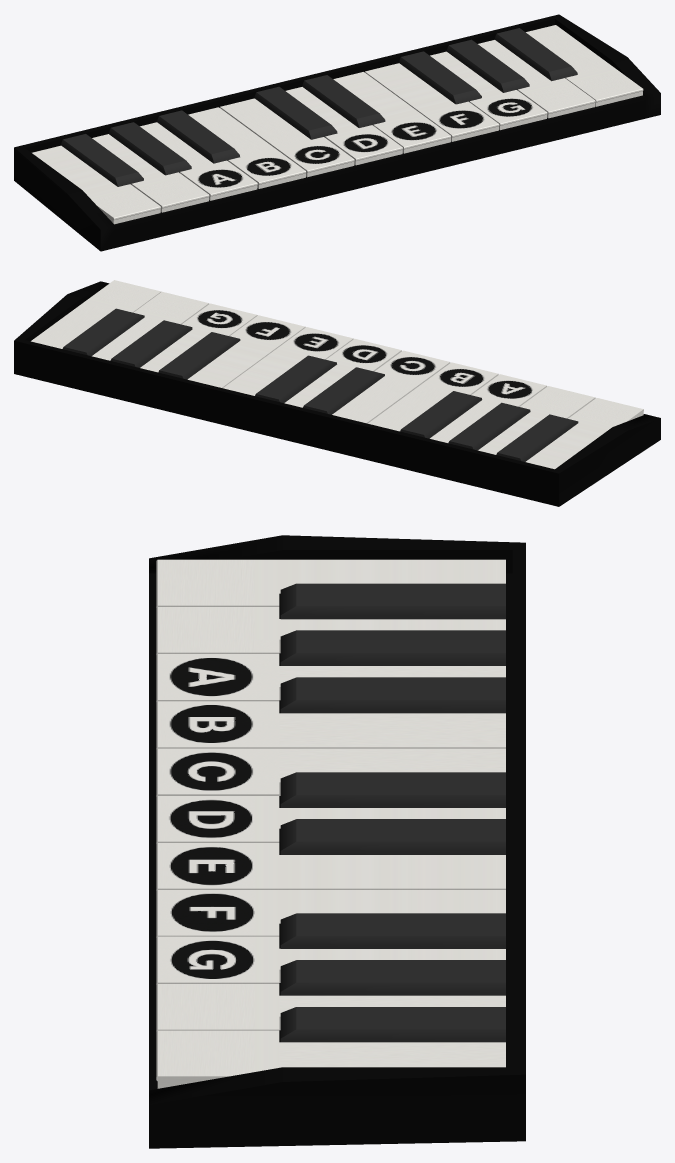
Rendered from FloorPianoWIDEKEYS.fbx.
3 renders of one model, top to bottom at view 1: azimuth 30°, elevation 25°; view 2: azimuth 150°, elevation 25°; view 3: azimuth 270°, elevation 25°, orthographic. The views are drawn at different scales.
Parts seen in each view (by area): view 1: PianoBorder, C, F, B, E, B1, F1, A, A1, D, G1, G (+8 smaller); view 2: PianoBorder, C, F, B, E, B1, F1, A, A1, D, G1, G (+8 smaller); view 3: PianoBorder, B, E, B1, F1, C, F, A, A1, G1, G, D (+8 smaller).
Part boxes in pixels (left/top/right/bottom): PianoBorder: left=14, top=14, right=660, bottom=251; C: left=220, top=98, right=354, bottom=177; F: left=365, top=63, right=499, bottom=141; B: left=188, top=107, right=305, bottom=188; E: left=333, top=72, right=450, bottom=153; B1: left=526, top=25, right=643, bottom=106; F1: left=32, top=145, right=160, bottom=224; A: left=140, top=122, right=257, bottom=200; A1: left=478, top=40, right=595, bottom=118; D: left=286, top=87, right=402, bottom=165; G1: left=92, top=134, right=209, bottom=212; G: left=430, top=51, right=547, bottom=130; PianoBorder: left=14, top=281, right=660, bottom=506; C: left=332, top=350, right=450, bottom=423; F: left=187, top=315, right=305, bottom=388; B: left=368, top=362, right=498, bottom=431; E: left=223, top=327, right=353, bottom=395; B1: left=31, top=280, right=161, bottom=348; F1: left=526, top=398, right=643, bottom=469; A: left=430, top=374, right=547, bottom=442; A1: left=92, top=291, right=209, bottom=360; D: left=284, top=338, right=401, bottom=407; G1: left=478, top=386, right=595, bottom=454; G: left=140, top=303, right=257, bottom=372; PianoBorder: left=149, top=535, right=525, bottom=1148; B: left=156, top=701, right=505, bottom=749; E: left=156, top=843, right=505, bottom=890; B1: left=156, top=1030, right=505, bottom=1088; F1: left=156, top=559, right=505, bottom=607; C: left=156, top=748, right=505, bottom=796; F: left=156, top=890, right=505, bottom=937; A: left=156, top=654, right=505, bottom=701; A1: left=156, top=984, right=505, bottom=1031; G1: left=156, top=607, right=505, bottom=654; G: left=156, top=936, right=505, bottom=984; D: left=156, top=796, right=505, bottom=843.
Size of the model in its own units: 1004 by 58.64 by 293.
Materials: 3 (1 with a texture image).
